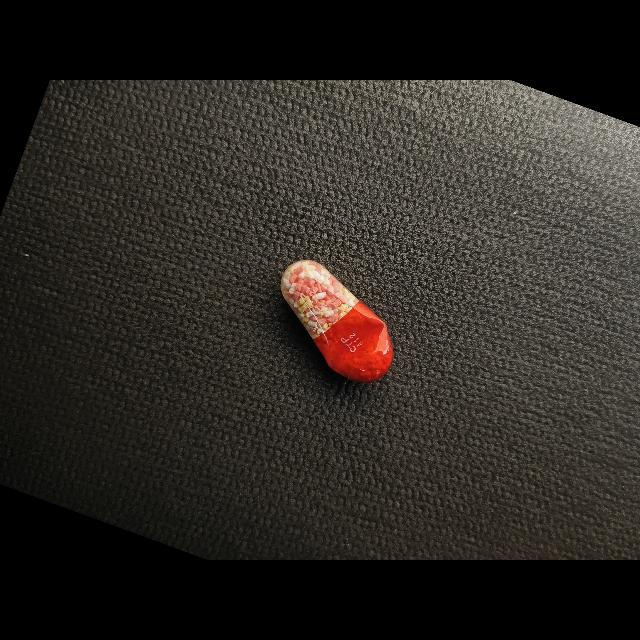Defective Capsule: (281, 260, 393, 382)
